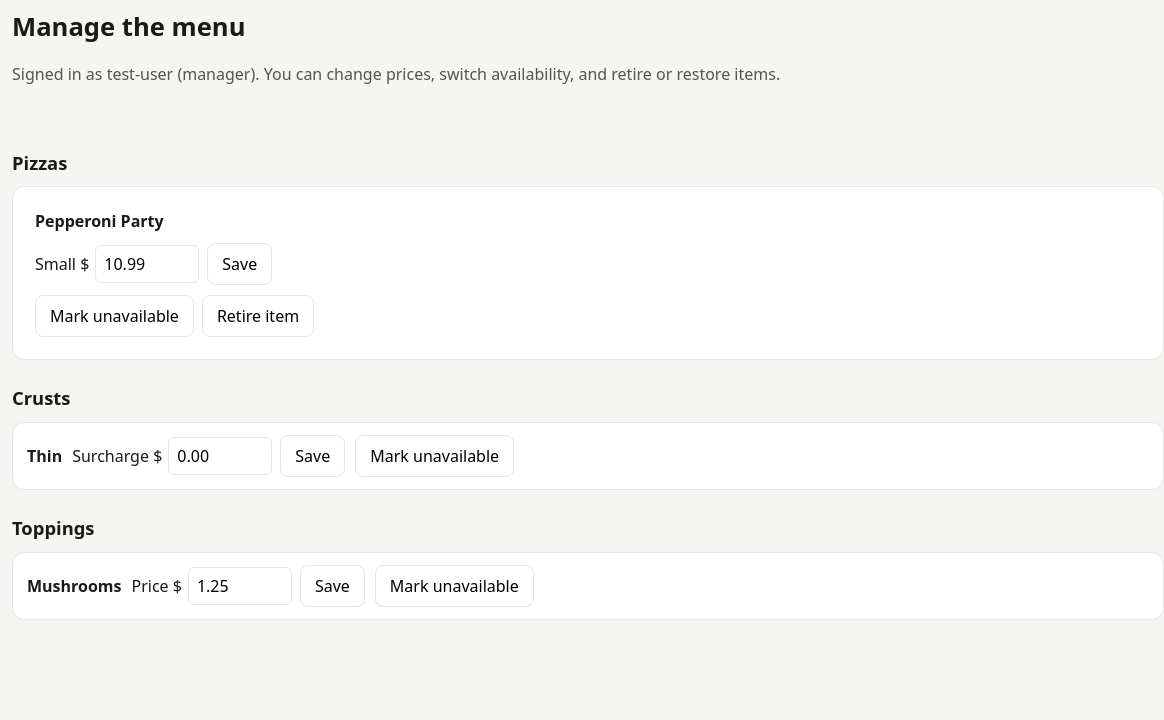
it: ManageMenuPage › lets the manager change a price, sending whole cents and the CSRF token
Step 1. Replace the text in the field named "Pepperoni Party, Small price in dollars" with "12.5" → (147, 264), box [95, 245, 199, 283]
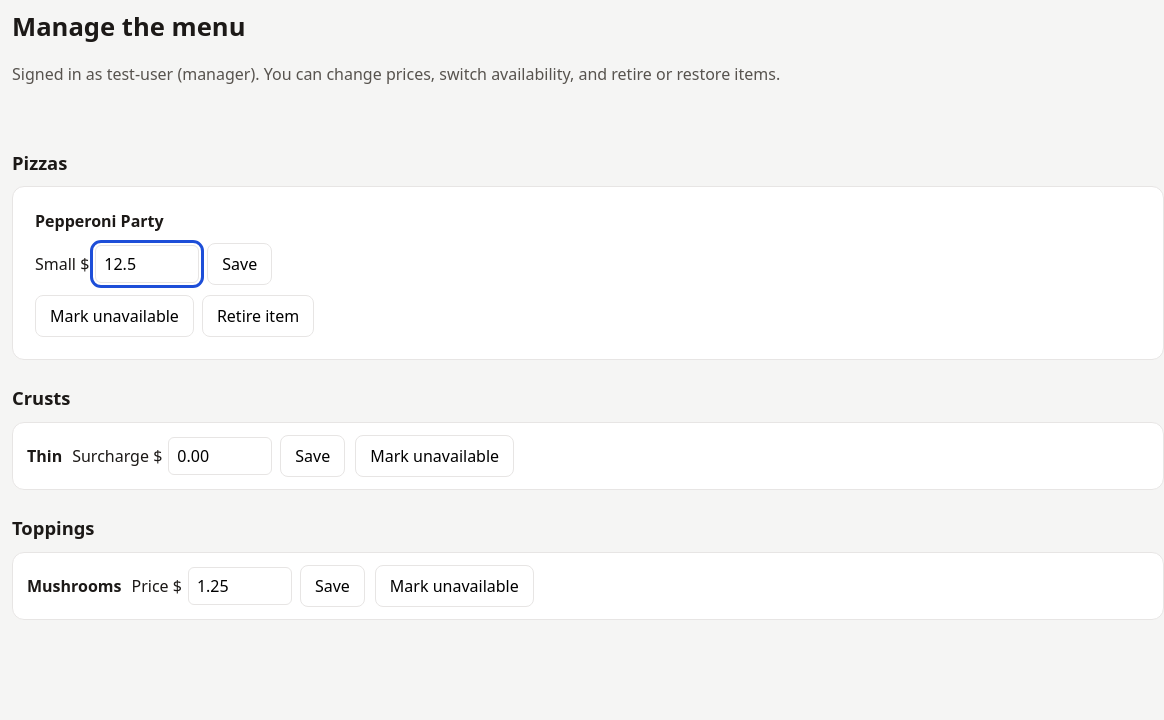
Step 2. Click the button "Save" next to "Small" → (240, 264), box [207, 243, 272, 285]
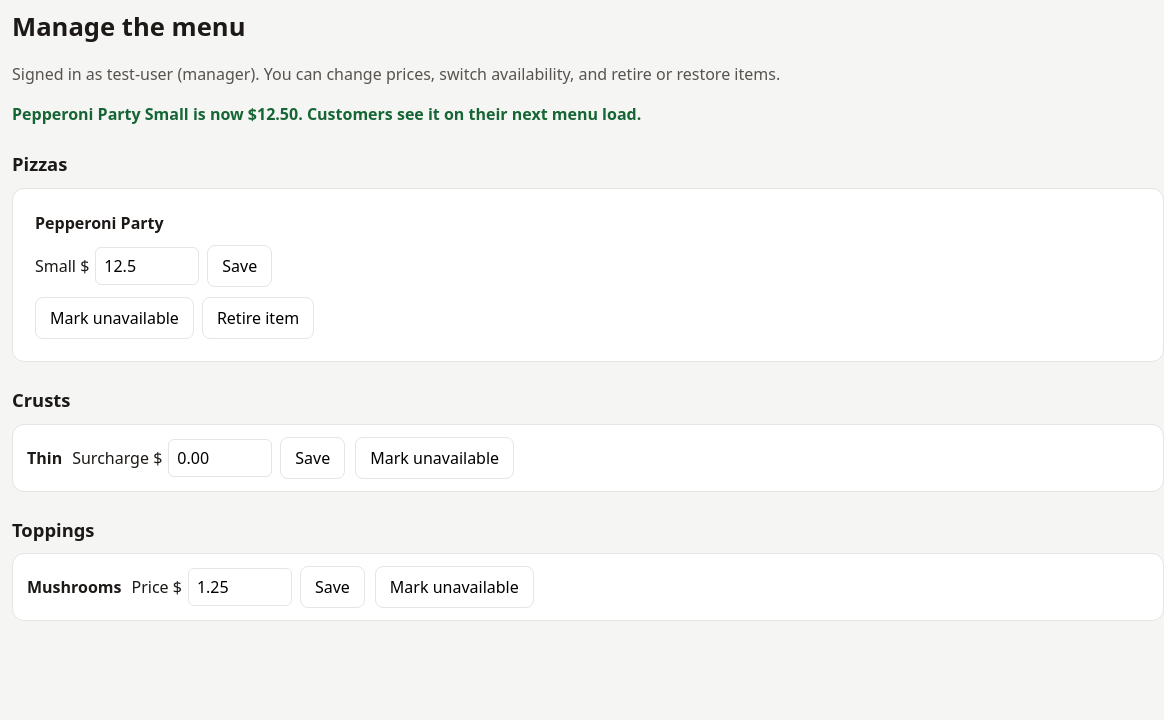
Result: the message shows "Pepperoni Party Small is now $12.50." at [12, 103, 641, 125]
